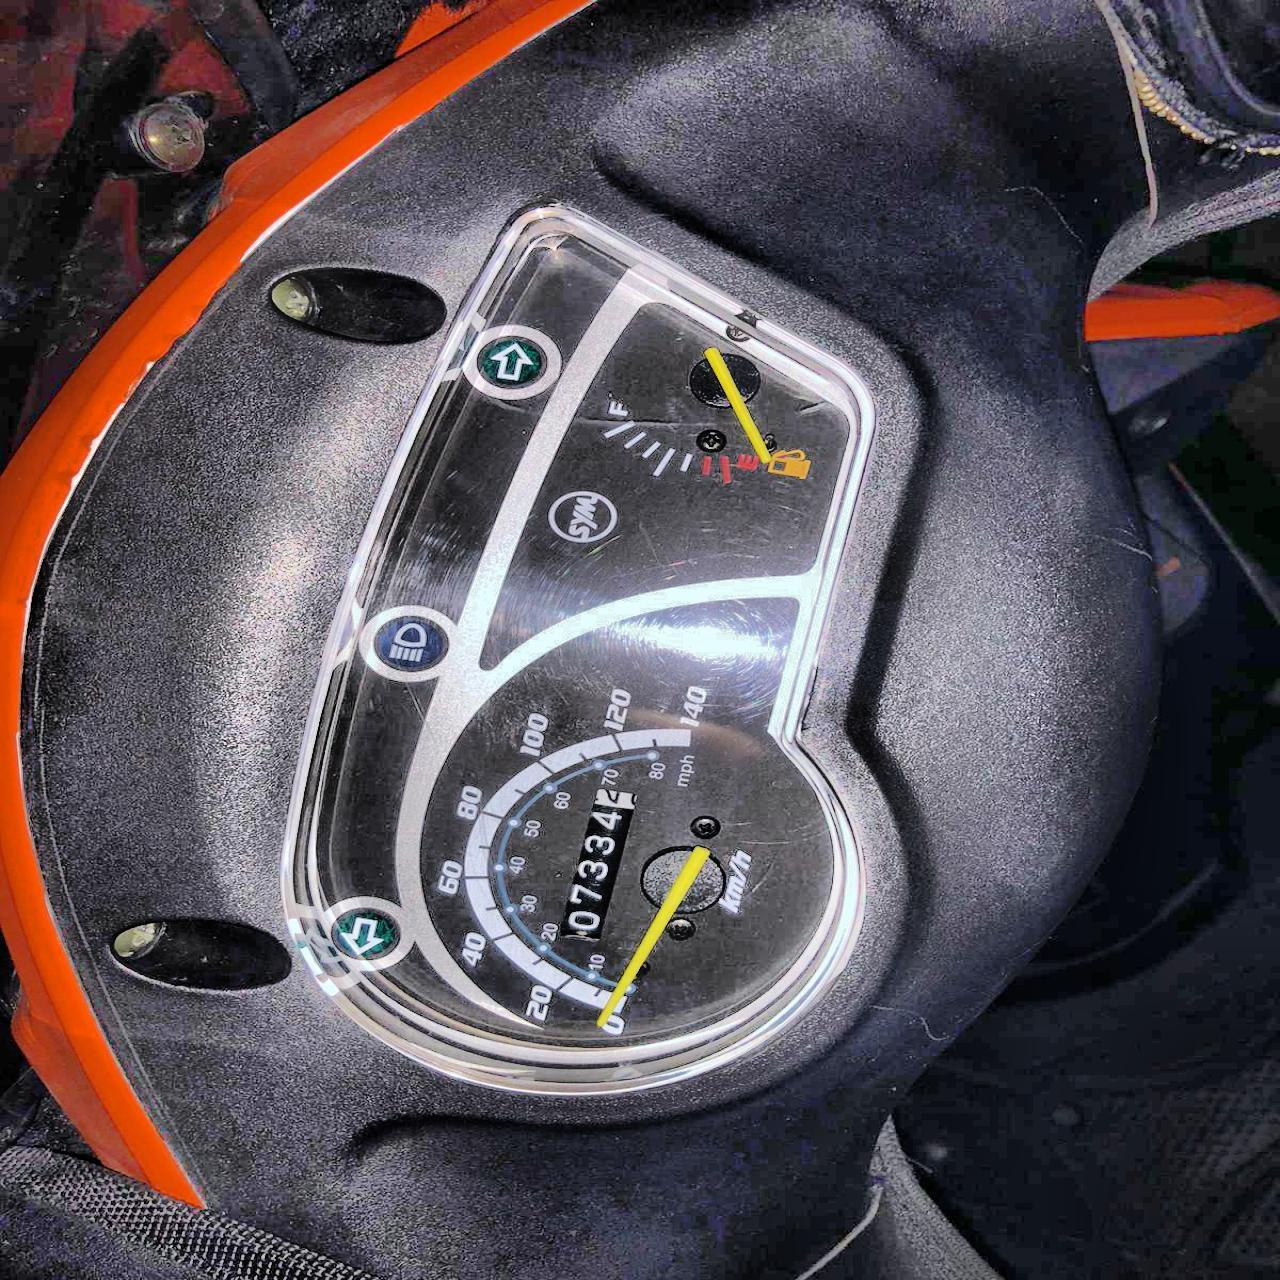0: (565, 908, 601, 930)
2: (588, 788, 622, 802)
3: (583, 835, 615, 856), (576, 860, 610, 879)
4: (588, 810, 622, 830)
7: (568, 883, 604, 903)
odometer: (564, 784, 639, 942)
